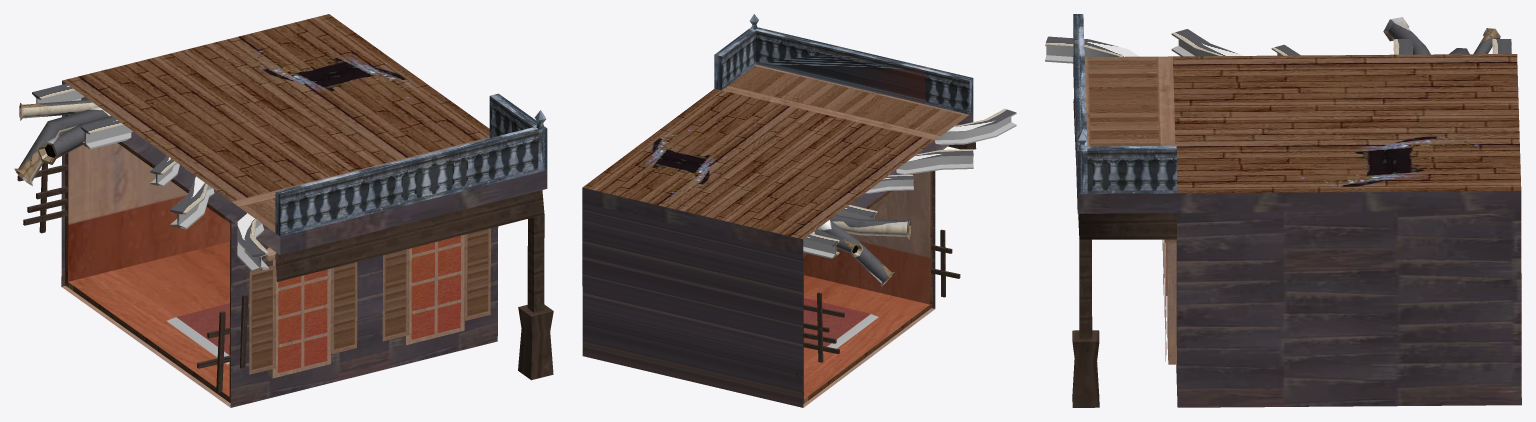
Rendered from pm-spooky-tower-floating-cabin-02.glb.
3 renders of one model, left to right at view 1: azimuth 30°, elevation 25°; view 2: azimuth 150°, elevation 25°; view 3: azimuth 270°, elevation 25°, orthographic. The views are drawn at different scales.
Parts seen in each view (by area): view 1: Spooky_Tower_Floating_Cabin_02_Art; view 2: Spooky_Tower_Floating_Cabin_02_Art; view 3: Spooky_Tower_Floating_Cabin_02_Art.
Boxes of the visible parts, left/top/right/bottom form: Spooky_Tower_Floating_Cabin_02_Art: left=14, top=14, right=553, bottom=407; Spooky_Tower_Floating_Cabin_02_Art: left=582, top=14, right=1016, bottom=407; Spooky_Tower_Floating_Cabin_02_Art: left=1045, top=14, right=1521, bottom=407.
Size of the model in its own units: 5.45 by 3.89 by 6.09.
5 materials, 5 textured.
